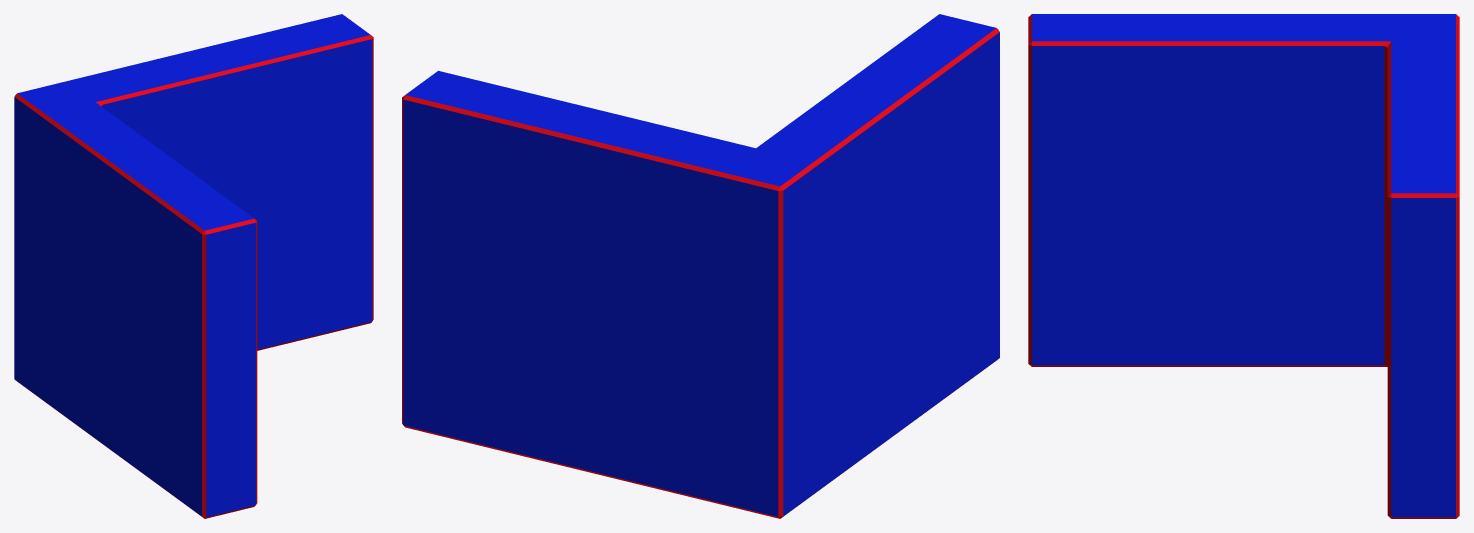
The model's file is L5_Corner_2.fbx.
3 renders of one model, left to right at view 1: azimuth 30°, elevation 25°; view 2: azimuth 150°, elevation 25°; view 3: azimuth 270°, elevation 25°, orthographic. The views are drawn at different scales.
Visible parts, largest first — view 1: L5_Corner_2; view 2: L5_Corner_2; view 3: L5_Corner_2.
Part boxes in pixels (x1,y1,x2,y2): L5_Corner_2: [14, 14, 373, 518]; L5_Corner_2: [402, 14, 999, 518]; L5_Corner_2: [1028, 14, 1459, 518].
Size of the model in its own units: 600 by 500 by 600.
